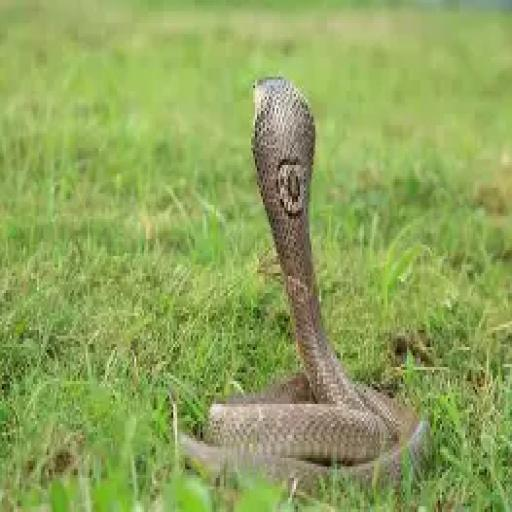snake: (180, 77, 430, 492)
